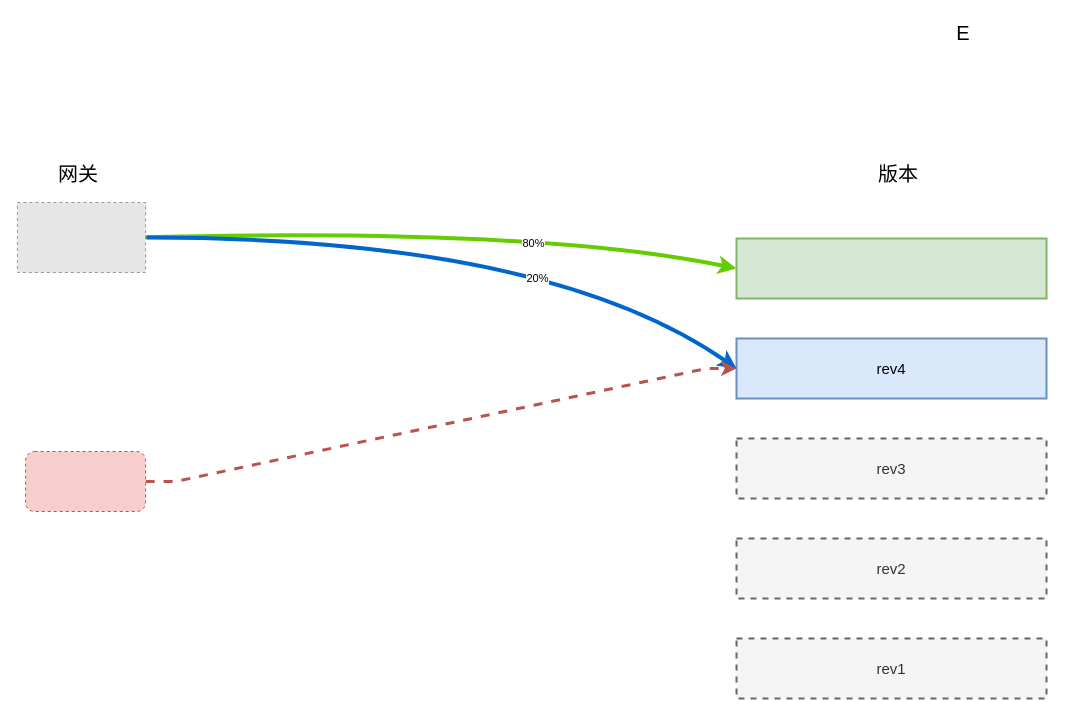
Some shapes in this 1065 by 716 pixel diagram are drawn without their labels. Grey dashed boxes stand in for pictures. Each missing label, with the centre of its shape:
"rev5" belongs at pixel 891 268.
"trigger" belongs at pixel 85 481.
